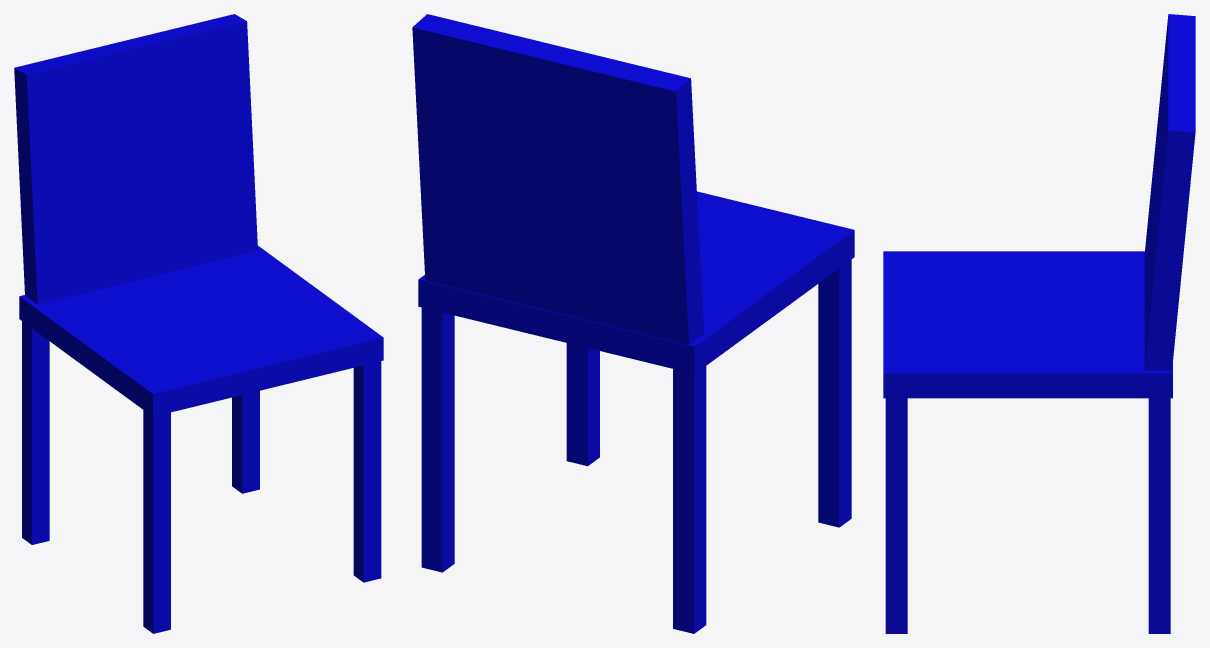
The model's file is SM_Chair.fbx.
3 views of the same model, side by side, from view 1: azimuth 30°, elevation 25°; view 2: azimuth 150°, elevation 25°; view 3: azimuth 270°, elevation 25° (orthographic). The views are drawn at different scales.
Visible parts, largest first — view 1: SM_Chair; view 2: SM_Chair; view 3: SM_Chair.
Boxes of the visible parts, <box> form: SM_Chair: <box>14,14,383,633</box>; SM_Chair: <box>412,14,854,633</box>; SM_Chair: <box>883,14,1195,633</box>.
Bounding box in the file's own units: 46.14 × 88.32 × 49.82.
